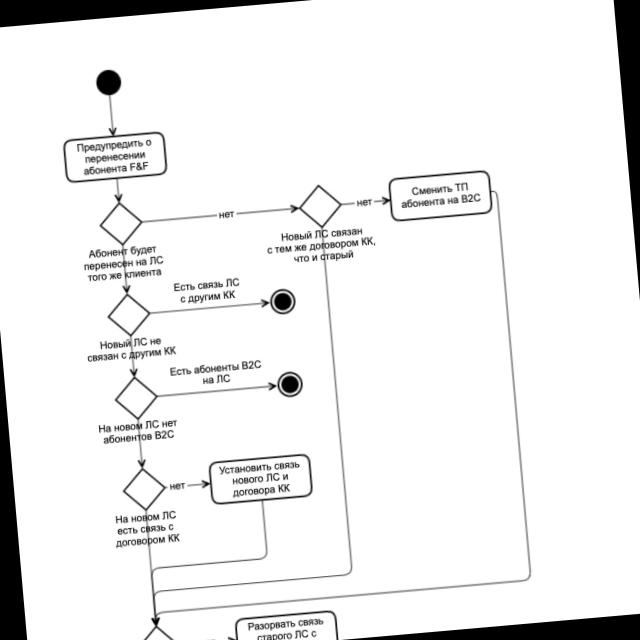arrow: (116, 188, 534, 629), (118, 230, 358, 628), (142, 500, 275, 624), (141, 203, 300, 227), (155, 380, 276, 400), (141, 509, 161, 627), (149, 298, 269, 316), (118, 244, 131, 294), (163, 478, 210, 491), (134, 419, 146, 468), (125, 335, 138, 377), (106, 96, 118, 136), (112, 178, 123, 201)
circle: (270, 289, 295, 313), (278, 372, 302, 397), (97, 70, 120, 95)
diamond: (301, 185, 341, 227), (124, 469, 164, 510), (116, 378, 157, 418), (101, 203, 141, 244), (109, 295, 149, 335)
rectangle: (208, 453, 312, 505), (389, 171, 492, 220), (64, 133, 166, 182)
text_region: (266, 225, 376, 266), (81, 242, 163, 282), (168, 357, 265, 388), (85, 334, 176, 365), (114, 509, 180, 547), (97, 417, 178, 445), (173, 275, 242, 304), (167, 479, 187, 492), (353, 195, 372, 208), (217, 208, 236, 220), (196, 635, 217, 640)
